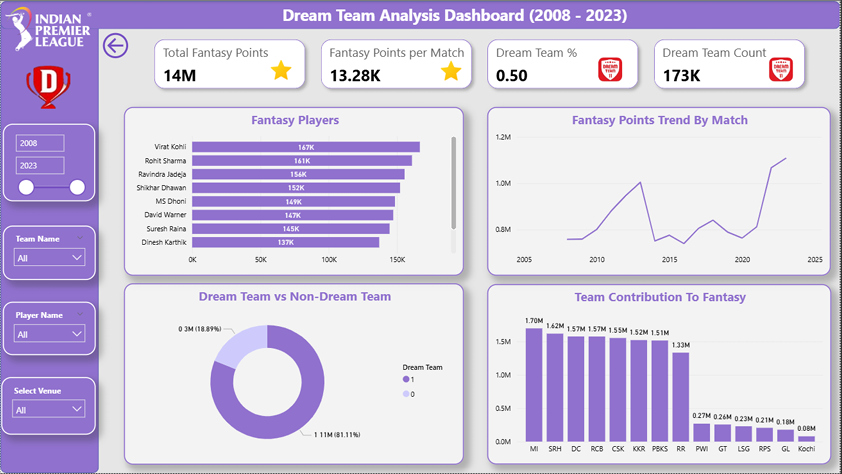

This screenshot's page, from the dashboard's own definition file:
{"tool":"powerbi","page":{"name":"Dream_Team_Analysis","canvas":[1280,720],"ordinal":3},"visuals":[{"type":"cardVisual","fields":{"Data":["Fact_Fantasy.Total Fantasy Points","Fact_Fantasy.Fantasy Points per Match","Fact_Fantasy.Dream Team %","Fact_Fantasy.Dream Team Count"]},"box":[217.3,42,1028.4,109.9],"z":0,"group":"g2"},{"type":"clusteredBarChart","title":"Fantasy Players","fields":{"Category":["Dim_Player.Player_Name"],"Y":["Fact_Fantasy.Total Fantasy Points"]},"box":[188.8,161.2,518.8,257.5],"z":0},{"type":"image","box":[405,79,46.9,53.1],"z":1000,"group":"g2"},{"type":"donutChart","title":"Dream Team vs Non-Dream Team","fields":{"Category":["Fact_Fantasy.Dream Team"],"Y":["Fact_Fantasy.Total Fantasy Points"]},"box":[188.9,430.9,518.5,276.5],"z":1000},{"type":"shape","title":"Dream 11","box":[0,0,1280.3,42.8],"z":2000,"group":"g1"},{"type":"image","box":[1134.6,58,111.1,93.8],"z":2000,"group":"g2"},{"type":"lineChart","title":"Fantasy Points Trend By Match","fields":{"Category":["Dim_Match.Match Hierarchy.season","Dim_Match.Match Hierarchy.match_name","Dim_Match.Match Hierarchy.venue"],"Y":["Fact_Fantasy.Total Fantasy Points"]},"box":[742.5,161.2,523.8,257.5],"z":2000},{"type":"slicer","fields":{"Values":["Dim_Batting_Team.Team_Name"]},"box":[3.6,342,141.8,83.2],"z":2000,"group":"g3"},{"type":"image","box":[664.2,80.3,46.9,53.1],"z":3000,"group":"g2"},{"type":"clusteredColumnChart","title":"Team Contribution To Fantasy","fields":{"Category":["Dim_Bowling_Team.Team_Name"],"Y":["Fact_Fantasy.Total Fantasy Points"]},"box":[742,432.1,524.7,275.3],"z":3000},{"type":"shape","title":"Dream 11","box":[0,0,150,720],"z":4000},{"type":"image","box":[874.1,58,111.1,93.8],"z":4000,"group":"g2"},{"type":"slicer","fields":{"Values":["Dim_Match.venue"]},"box":[1.2,573.1,144.3,88],"z":4000,"group":"g3"},{"type":"group","id":"g1","title":"Group 1","box":[0,0,1280,42.5],"z":5000},{"type":"image","box":[0,0,143.8,85],"z":6000},{"type":"slicer","fields":{"Values":["Dim_Player.Player_Name"]},"box":[3.6,458.2,141.8,81.9],"z":6000,"group":"g3"},{"type":"image","box":[25.7,92.9,94.2,75.8],"z":7000},{"type":"textbox","box":[421.2,0,545,42.5],"z":8000},{"type":"actionButton","box":[150.4,42.8,52.6,50.1],"z":9000},{"type":"group","id":"g2","title":"Group 2","box":[217.3,42,1028.4,109.9],"z":10000},{"type":"group","id":"g3","title":"Group 5","box":[1.2,342,144.4,318.5],"z":11000},{"type":"slicer","fields":{"Values":["Dim_Match.season"]},"box":[3.7,187.7,140.7,118.5],"z":12000}]}

Visuals, with their boxes in screenshot pixels (x1, y1, x2, y2), scaled from the page's 1280x720 canvas onto the 842x474 screenshot:
cardVisual - Fact_Fantasy.Total Fantasy Points x Fact_Fantasy.Fantasy Points per Match: locate(143, 28, 819, 100)
"Fantasy Players" clusteredBarChart: locate(124, 106, 465, 276)
image: locate(266, 52, 297, 87)
"Dream Team vs Non-Dream Team" donutChart: locate(124, 284, 465, 466)
"Dream 11" shape: locate(0, 0, 841, 28)
image: locate(746, 38, 819, 100)
"Fantasy Points Trend By Match" lineChart: locate(488, 106, 833, 276)
slicer - Dim_Batting_Team.Team_Name: locate(2, 225, 96, 280)
image: locate(437, 53, 468, 88)
"Team Contribution To Fantasy" clusteredColumnChart: locate(488, 284, 833, 466)
"Dream 11" shape: locate(0, 0, 99, 473)
image: locate(575, 38, 648, 100)
slicer - Dim_Match.venue: locate(1, 377, 96, 435)
"Group 1" group: locate(0, 0, 841, 28)
image: locate(0, 0, 95, 56)
slicer - Dim_Player.Player_Name: locate(2, 302, 96, 356)
image: locate(17, 61, 79, 111)
textbox: locate(277, 0, 636, 28)
actionButton: locate(99, 28, 134, 61)
"Group 2" group: locate(143, 28, 819, 100)
"Group 5" group: locate(1, 225, 96, 435)
slicer - Dim_Match.season: locate(2, 124, 95, 202)
